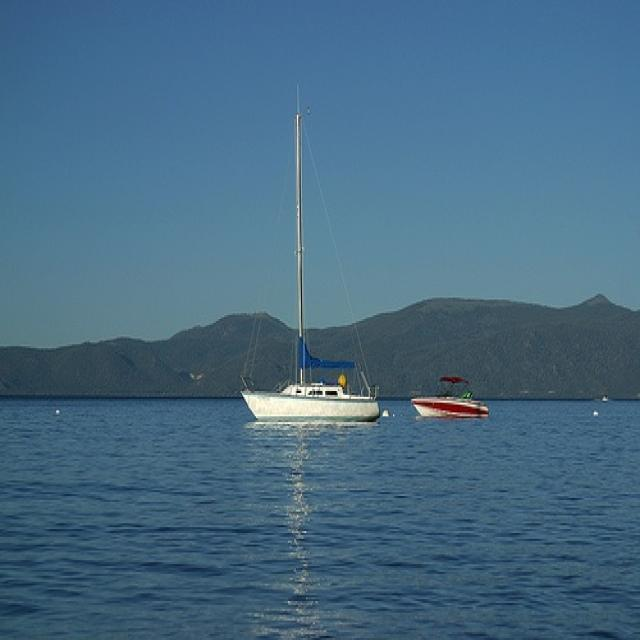boat: (238, 82, 380, 426), (412, 374, 490, 422)
